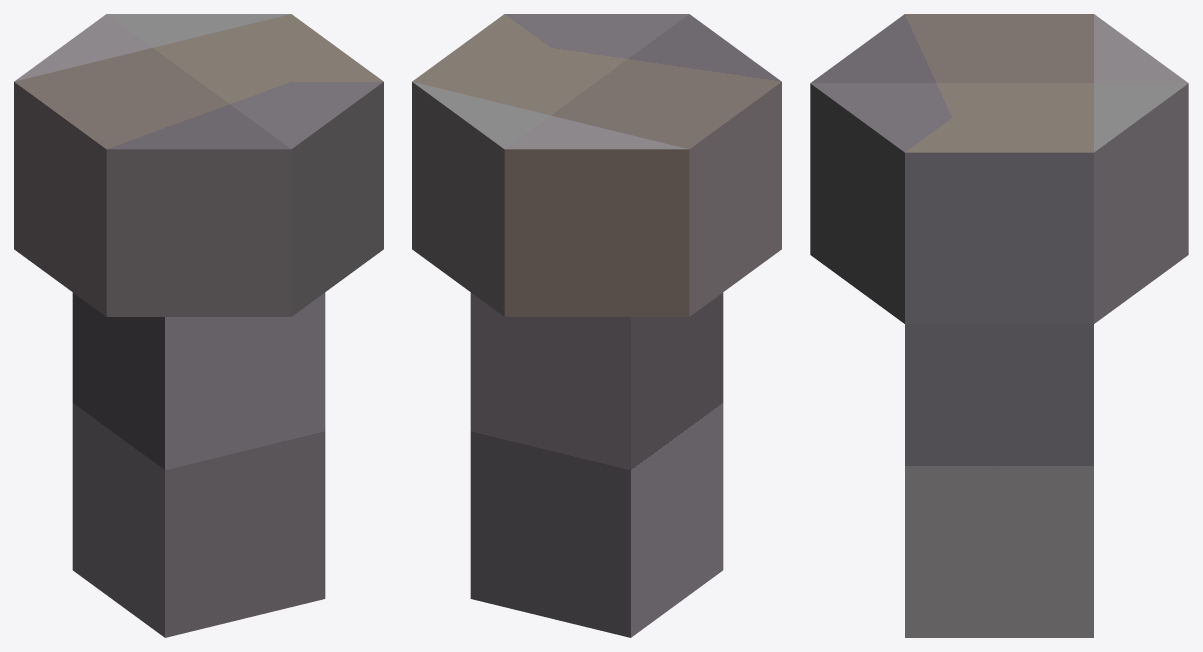
The model's file is screw.fbx.
The picture shows the model from 3 angles, left to right: view 1: azimuth 30°, elevation 25°; view 2: azimuth 150°, elevation 25°; view 3: azimuth 270°, elevation 25°; orthographic projection. The views are drawn at different scales.
Parts seen in each view (by area): view 1: screw; view 2: screw; view 3: screw.
Boxes of the visible parts, box(x1,y1,x2,y2) form: screw: box(14, 14, 383, 637); screw: box(412, 14, 781, 637); screw: box(810, 14, 1188, 637).
Size of the model in its own units: 8.66 by 15 by 10.
